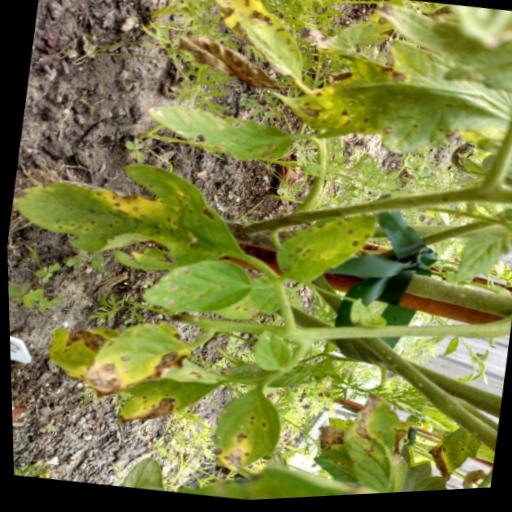Septoria: (257, 20, 512, 188), (3, 139, 253, 300), (136, 94, 320, 181), (75, 309, 197, 410), (260, 202, 379, 301), (196, 0, 319, 89), (132, 245, 255, 327), (331, 392, 421, 499), (107, 366, 225, 442), (202, 386, 286, 484)
